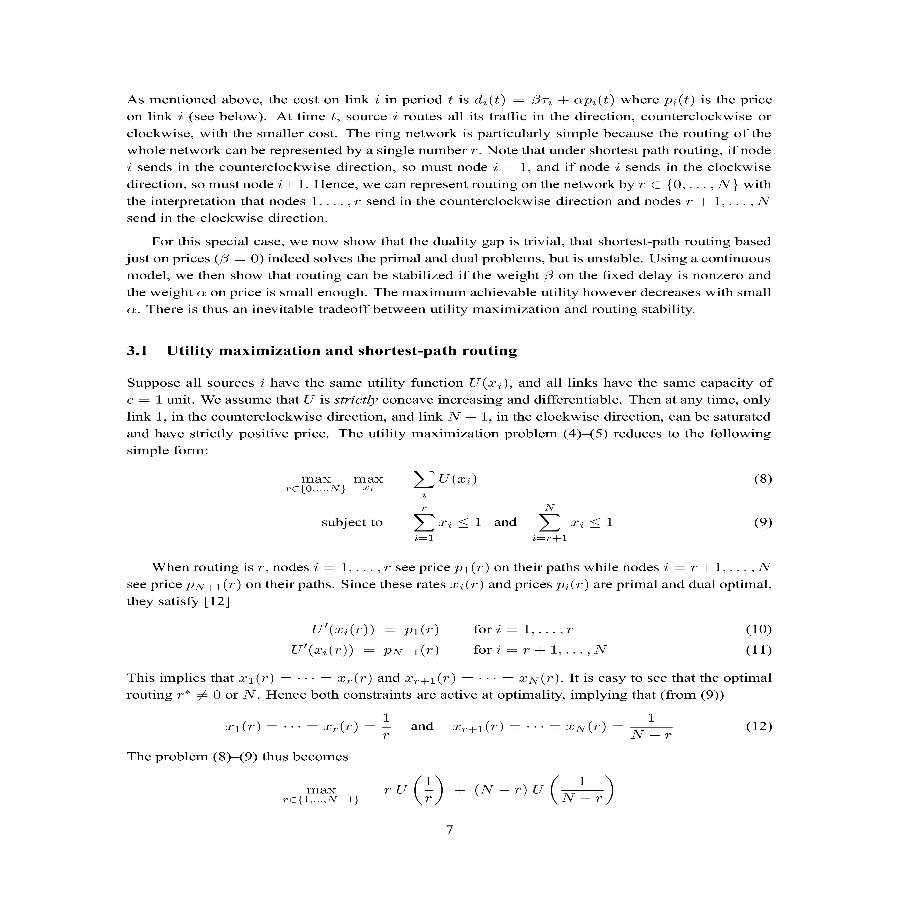eq: (284, 462, 627, 546), (278, 772, 615, 810), (449, 710, 676, 744), (287, 613, 585, 638), (222, 710, 402, 741), (288, 643, 611, 659)
